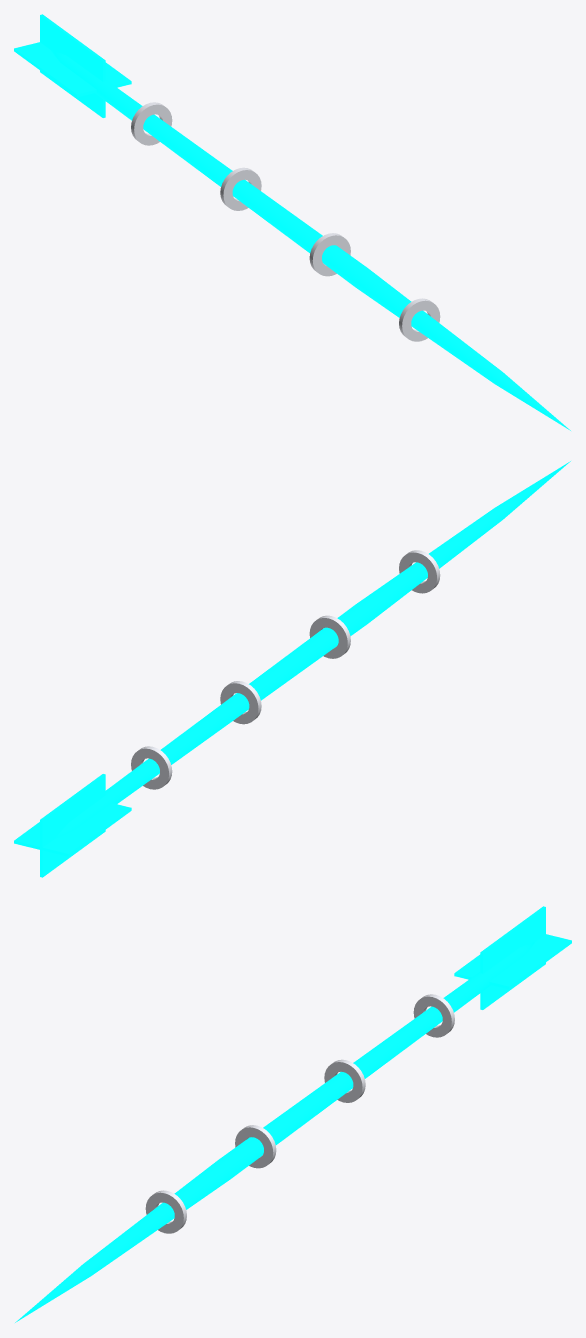
Rendered from OrbitalLauncher_Bolt.fbx.
The picture shows the model from 3 angles, top to bottom: view 1: azimuth 30°, elevation 25°; view 2: azimuth 150°, elevation 25°; view 3: azimuth 330°, elevation 25°; orthographic projection.
Parts seen in each view (by area): view 1: Bolt_Proyectil_Energia; view 2: Bolt_Proyectil_Energia; view 3: Bolt_Proyectil_Energia.
Boxes of the visible parts, x1=… form: Bolt_Proyectil_Energia: x1=14, y1=14, x2=570, y2=430; Bolt_Proyectil_Energia: x1=14, y1=461, x2=570, y2=877; Bolt_Proyectil_Energia: x1=15, y1=906, x2=571, y2=1322.
Bounding box in the file's own units: 3.48 × 3.48 × 58.58.
